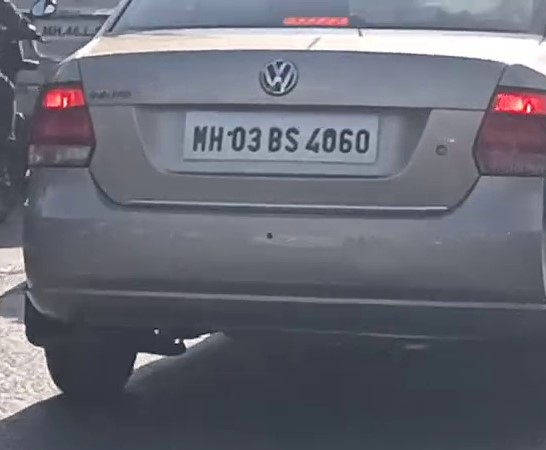MH03BS4060: (185, 112, 378, 164)
